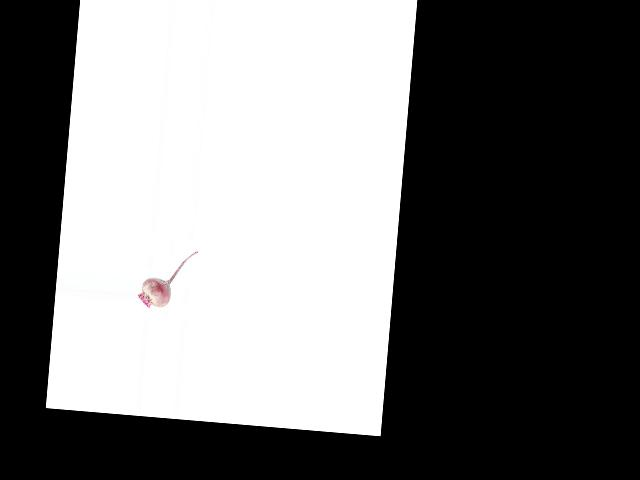beet: (136, 246, 198, 311)
